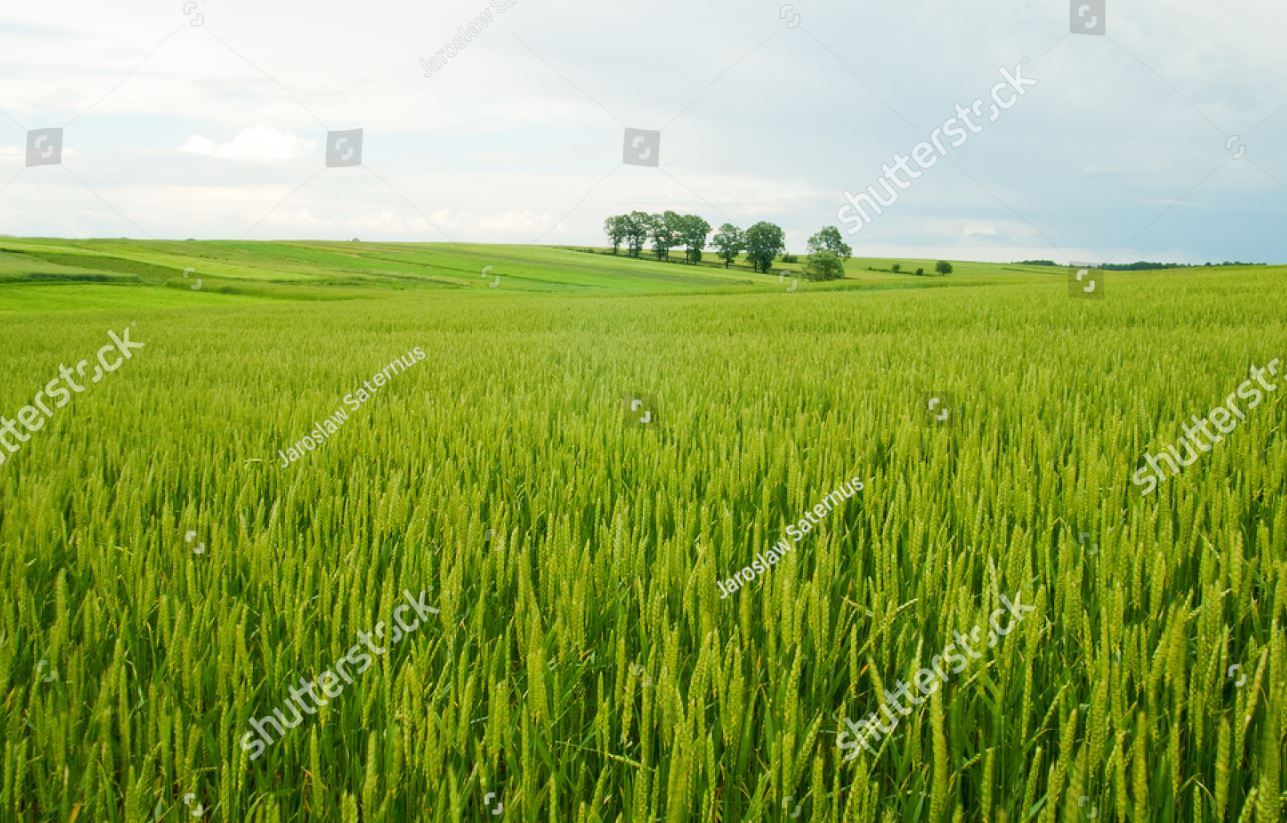Wheat: (127, 495, 848, 743)
